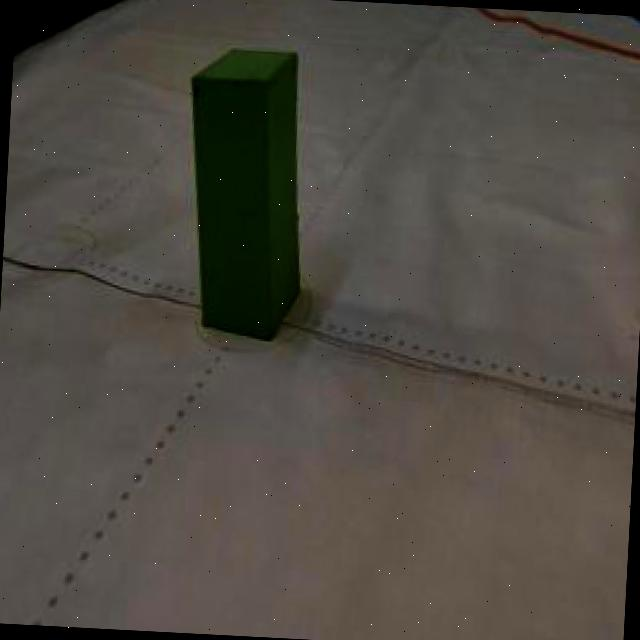greenbox: (176, 46, 316, 342)
